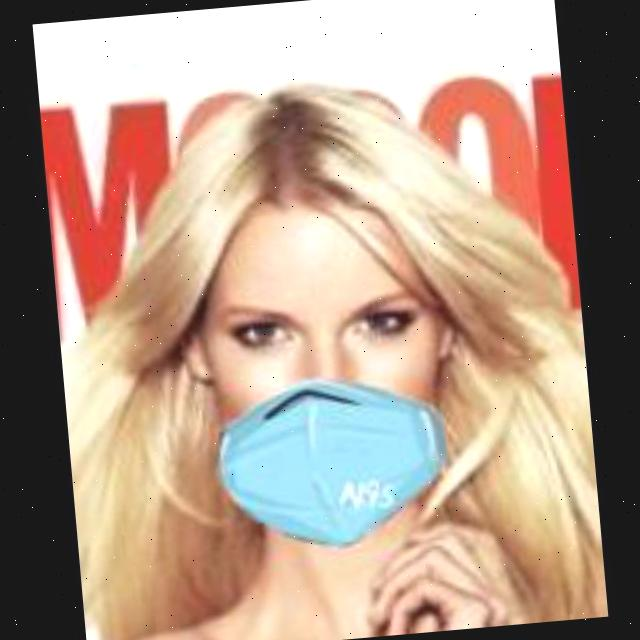suspicion: (98, 122, 554, 530)
